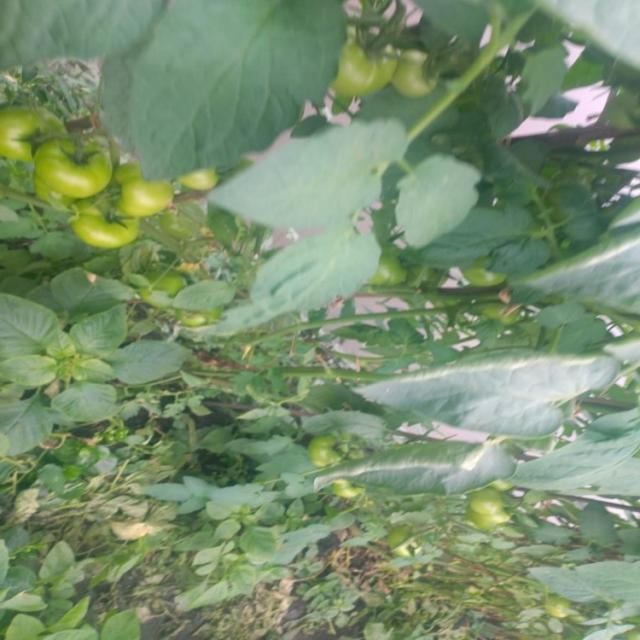tomato: (40, 137, 128, 199), (336, 17, 395, 101), (71, 191, 146, 255), (114, 152, 179, 215), (392, 43, 448, 112), (1, 97, 59, 157), (474, 483, 518, 526), (377, 253, 422, 294), (312, 435, 353, 477), (389, 522, 423, 564), (460, 261, 503, 293), (182, 162, 218, 188)
